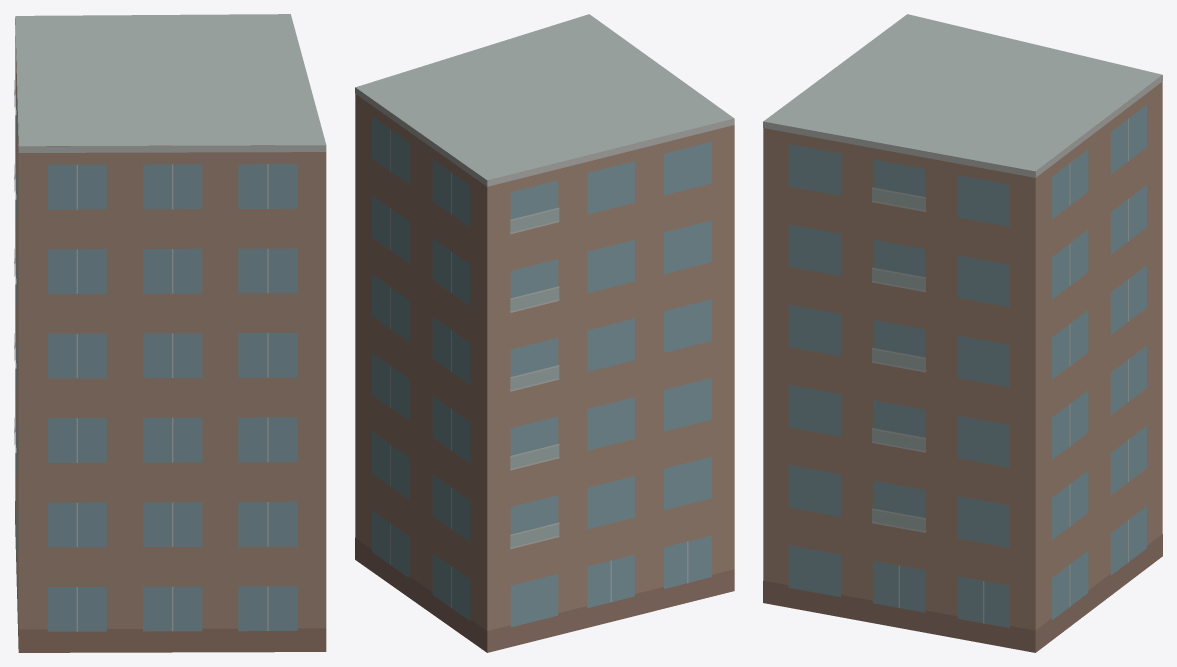
File: survey-upis-32740427.glb
3 views of the same model, side by side, from view 1: azimuth 30°, elevation 25°; view 2: azimuth 150°, elevation 25°; view 3: azimuth 270°, elevation 25° (orthographic). The views are drawn at different scales.
Visible parts, largest first — view 1: survey-upis-32740427.tmp; view 2: survey-upis-32740427.tmp; view 3: survey-upis-32740427.tmp.
Part boxes in pixels (x1=…): survey-upis-32740427.tmp: x1=14, y1=14, x2=326, y2=652; survey-upis-32740427.tmp: x1=355, y1=14, x2=734, y2=652; survey-upis-32740427.tmp: x1=763, y1=14, x2=1162, y2=652.
Size of the model in its own units: 12.7 by 18.1 by 13.63.
